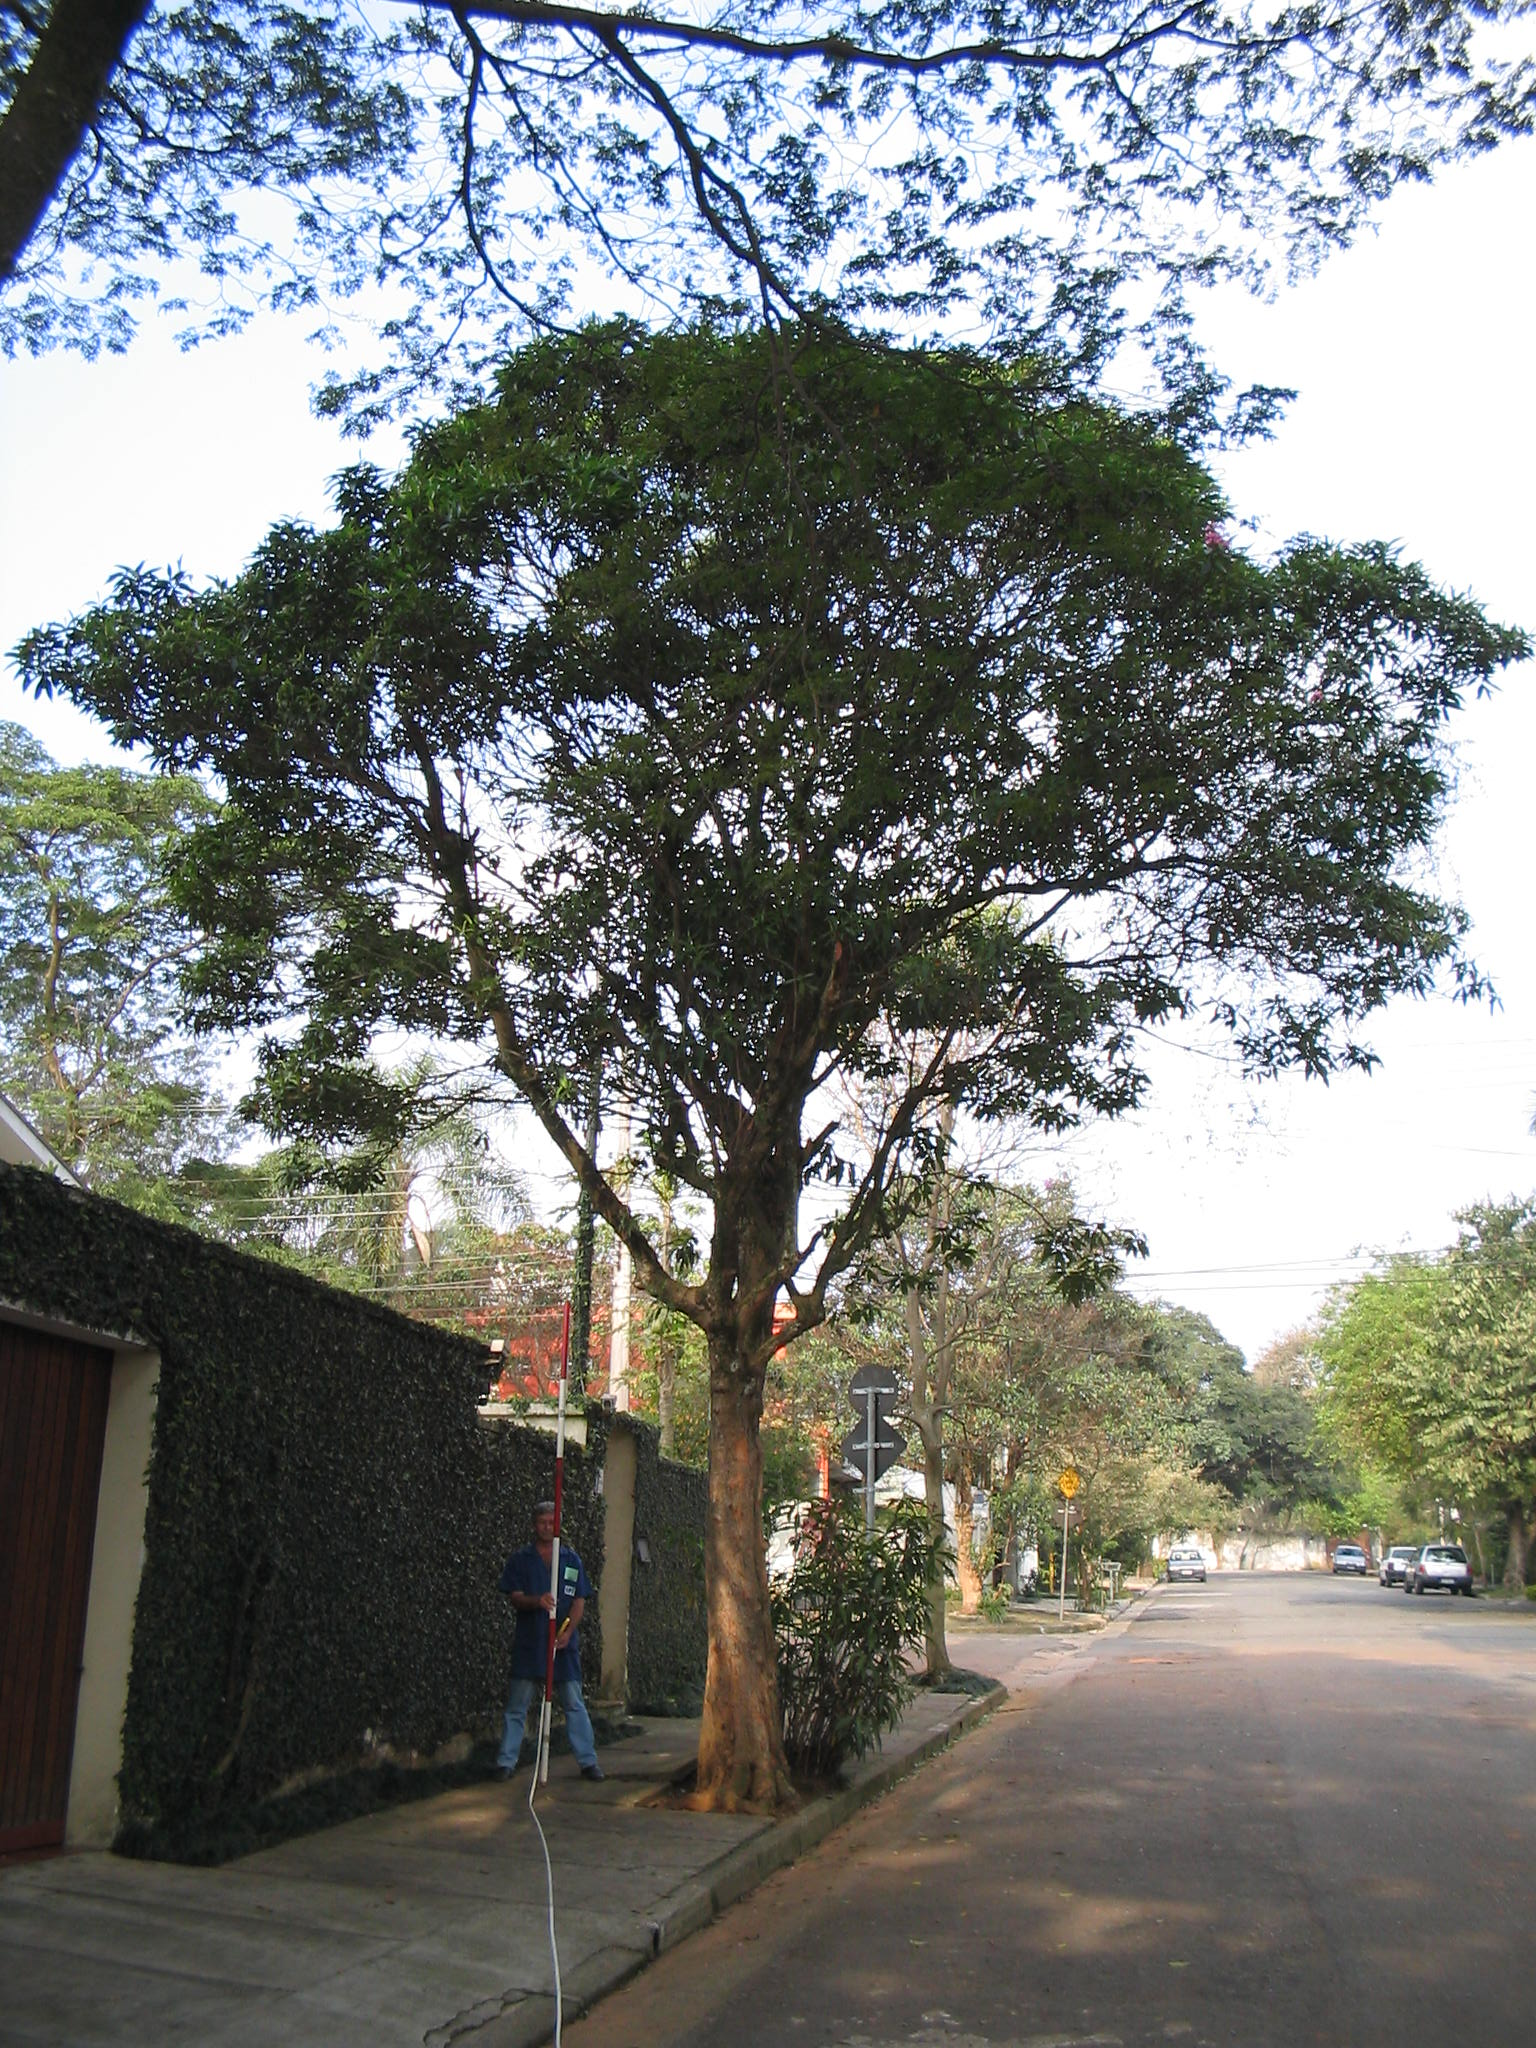crown: (19, 318, 1525, 1292)
stem: (645, 1374, 833, 1803)
stick: (510, 1303, 600, 1787)
tree: (11, 311, 1530, 1808)
